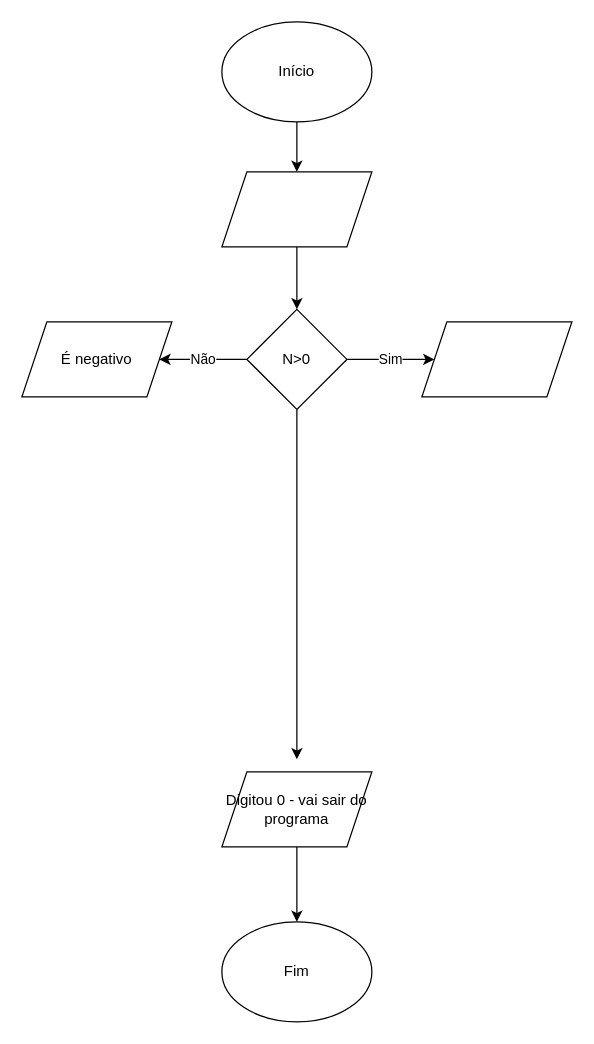
Image size: 594x1044. Some labels were removed from this diagram. Here are the shapes that lost their labels. From the top down, the box of each, then its label:
(221, 171, 372, 247): Ler N
(421, 321, 572, 397): É positivo
